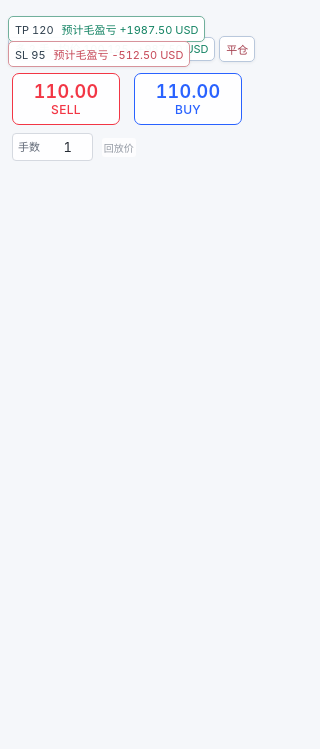
Test case: cancels instead of submitting when the pointer leaves the plot
Press the mouse on the button with aria-label "拖动 SL" at [99, 54], box x1=8 y1=41 x2=190 y2=67
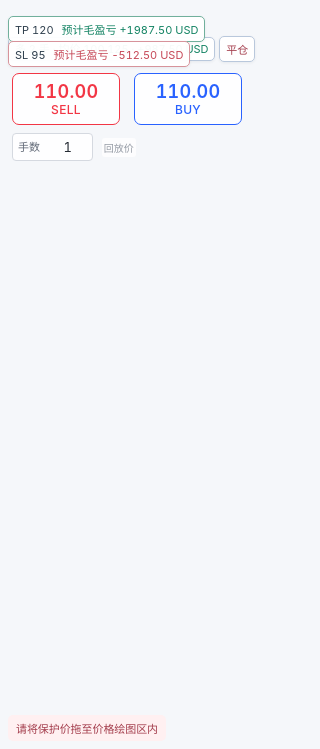
Now the message shows "绘图区内", box x1=16 y1=722 x2=158 y2=736
